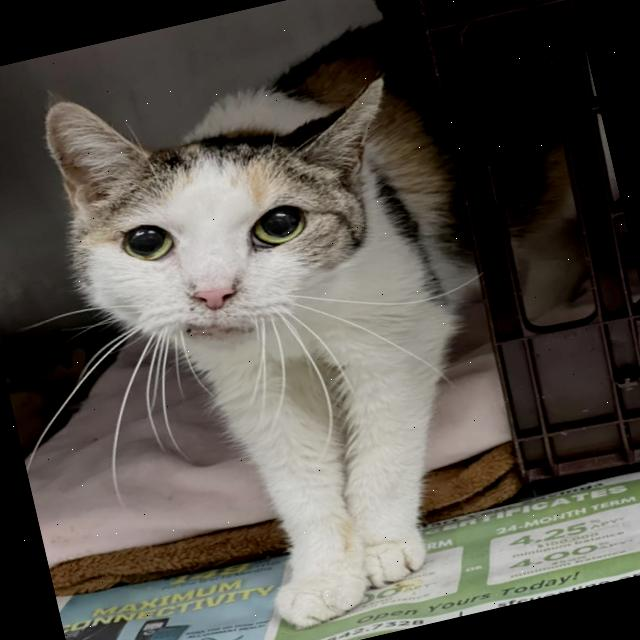calico_cat: (18, 11, 470, 418)
